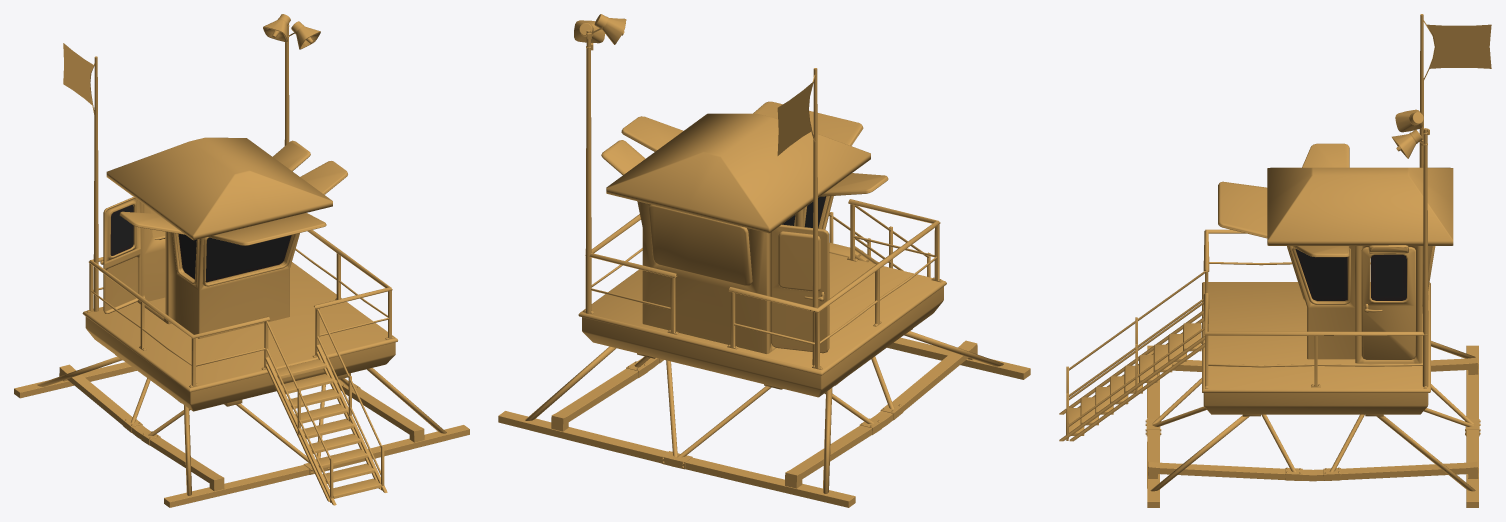
The model's file is LifeguardKiosk.fbx.
3 renders of one model, left to right at view 1: azimuth 30°, elevation 25°; view 2: azimuth 150°, elevation 25°; view 3: azimuth 270°, elevation 25°, orthographic. The views are drawn at different scales.
Visible parts, largest first — view 1: Lifeguard_Kiosk, flag; view 2: Lifeguard_Kiosk, flag; view 3: Lifeguard_Kiosk, flag.
Boxes of the visible parts, bbox=[...] form: Lifeguard_Kiosk: bbox=[14, 14, 469, 507]; flag: bbox=[63, 43, 94, 114]; Lifeguard_Kiosk: bbox=[498, 14, 1030, 507]; flag: bbox=[777, 75, 815, 155]; Lifeguard_Kiosk: bbox=[1059, 14, 1480, 507]; flag: bbox=[1423, 20, 1491, 80].
Size of the model in its own units: 7.72 by 9.03 by 8.46.
